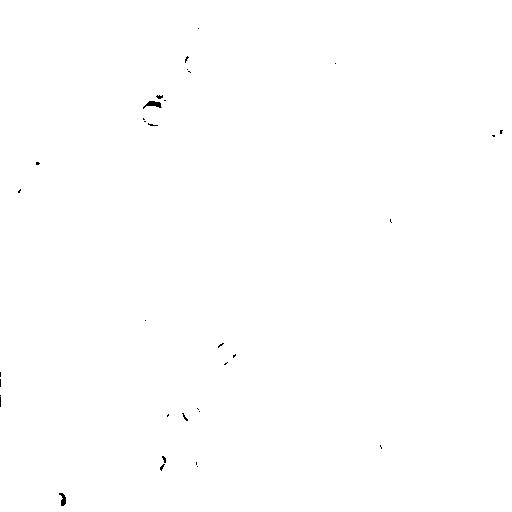micro-algae: (102, 20, 198, 109), (344, 197, 413, 267), (466, 106, 511, 188), (198, 121, 254, 179), (393, 452, 445, 503), (352, 7, 399, 51), (166, 449, 204, 483), (322, 311, 358, 346), (99, 277, 131, 311), (317, 49, 351, 78), (123, 157, 155, 187), (193, 21, 221, 55), (483, 113, 511, 145), (177, 17, 207, 46), (73, 471, 101, 501), (61, 277, 92, 304), (131, 46, 166, 69), (155, 399, 179, 429), (260, 457, 282, 489), (245, 286, 273, 311), (0, 372, 21, 405), (27, 146, 52, 173), (182, 49, 211, 72), (212, 341, 239, 365), (39, 430, 63, 456), (143, 470, 169, 493), (225, 353, 251, 376), (497, 451, 512, 490), (141, 103, 165, 127), (377, 427, 399, 453), (197, 447, 218, 474), (427, 0, 463, 14), (183, 401, 205, 423), (163, 82, 186, 103), (388, 209, 409, 232), (359, 495, 389, 511), (304, 304, 323, 329), (8, 481, 31, 500), (47, 489, 67, 509), (297, 279, 316, 300), (5, 0, 35, 13), (150, 453, 168, 473), (55, 5, 74, 23), (165, 1, 193, 9), (3, 504, 30, 512), (137, 309, 152, 323), (17, 186, 33, 197), (189, 503, 206, 511)
